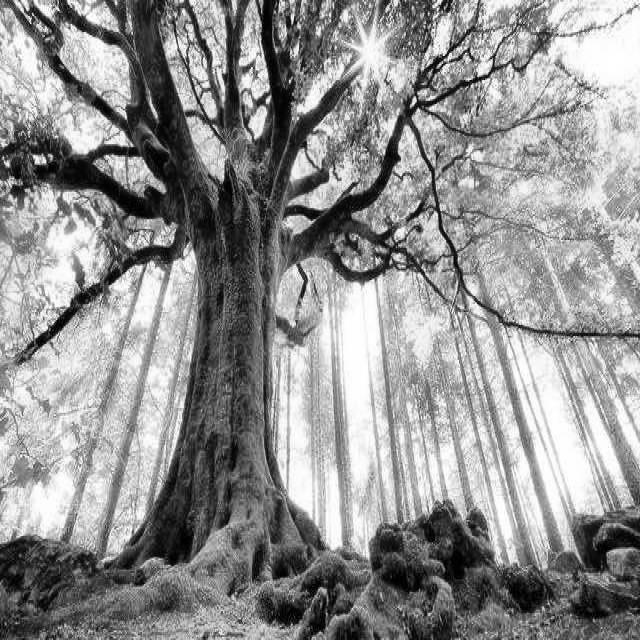Tree: (0, 0, 589, 582)
